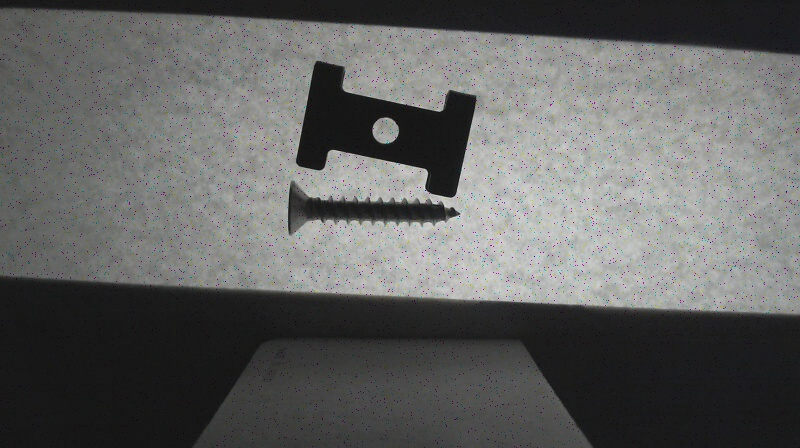O002: (292, 61, 478, 198)
S001: (284, 178, 461, 236)
